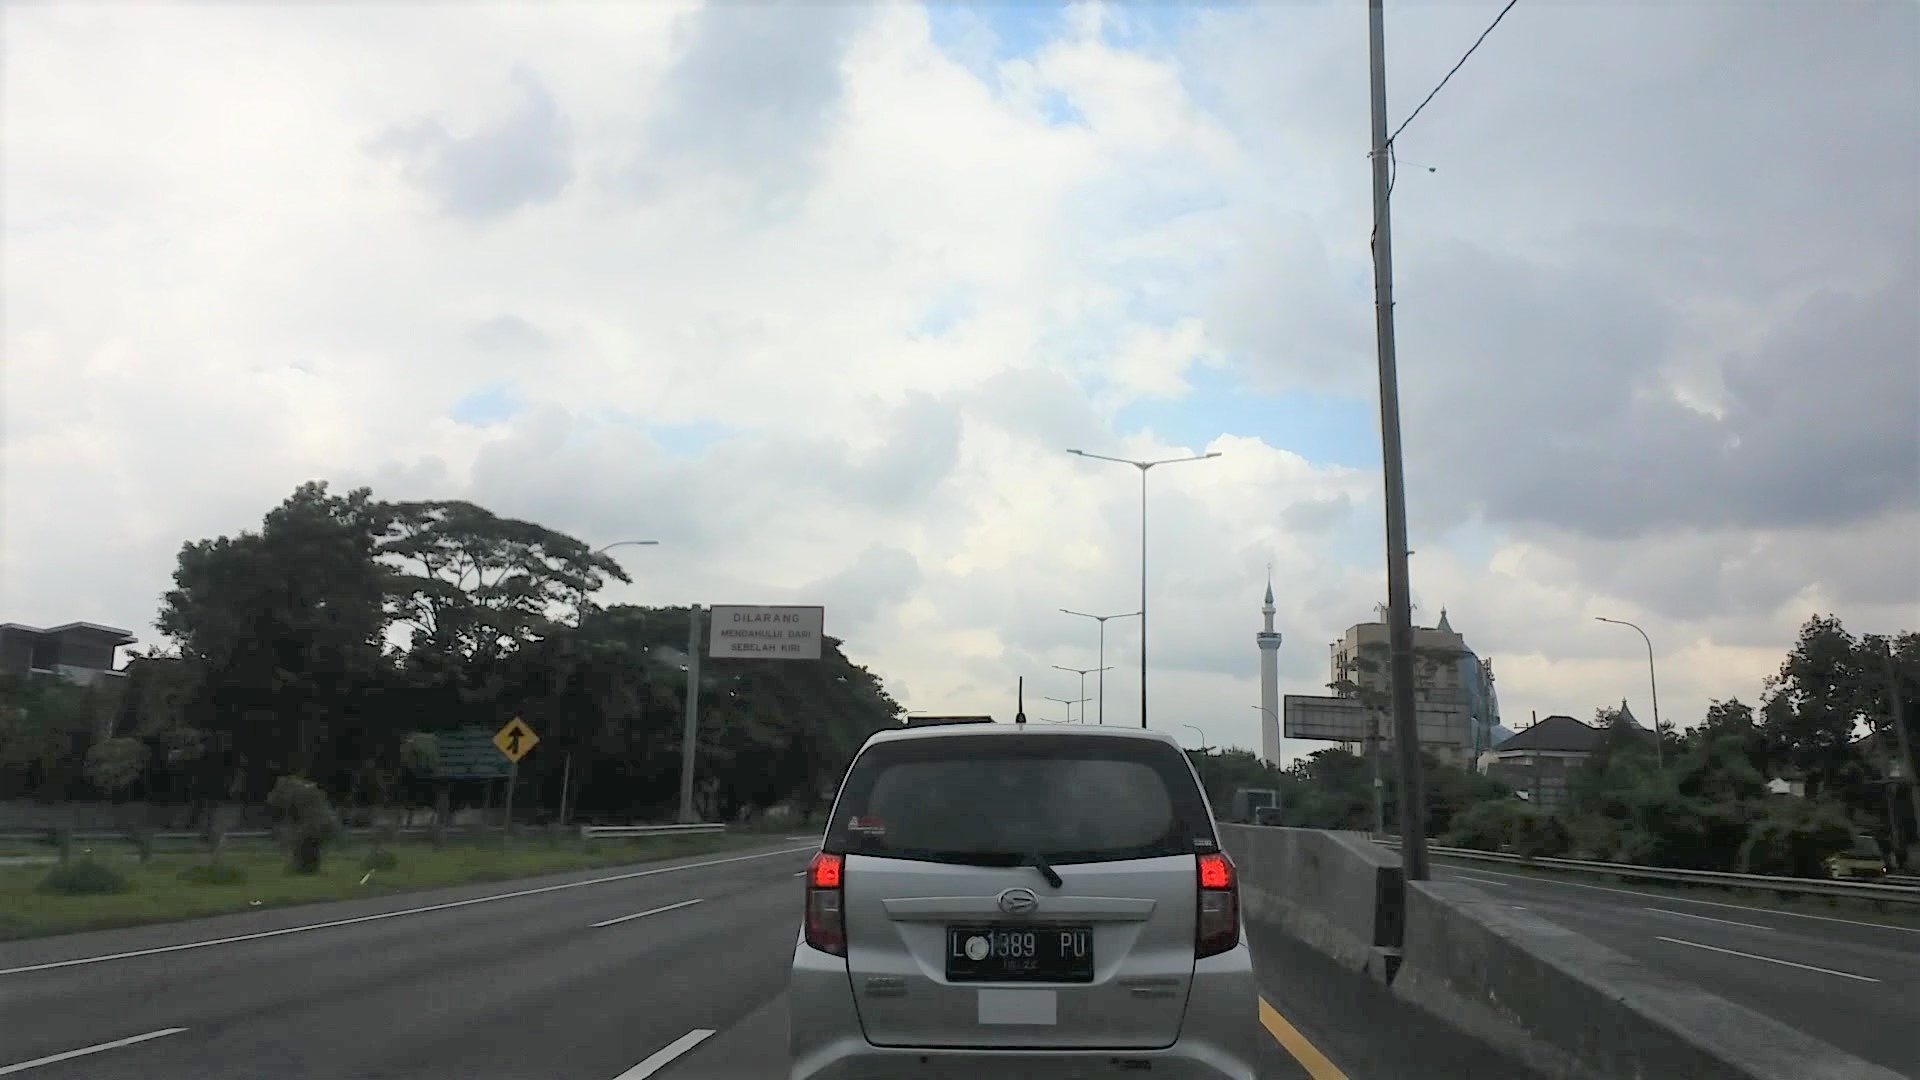plate_positive: (945, 924, 1093, 982)
